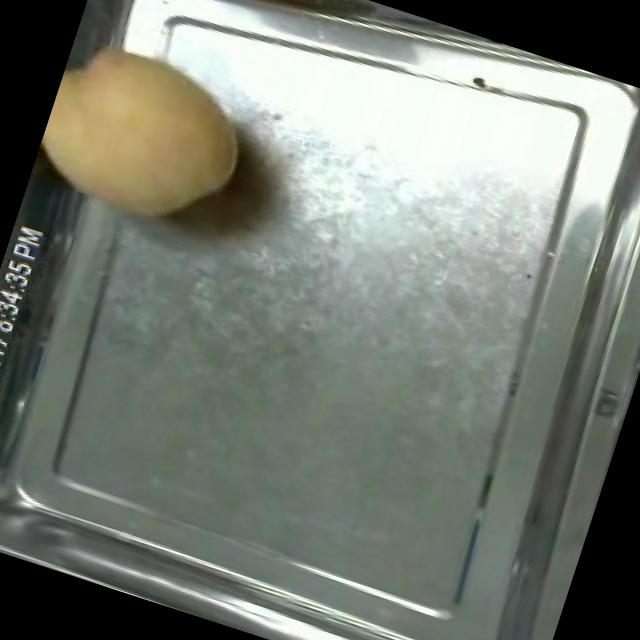Fruit: (25, 13, 276, 255)
